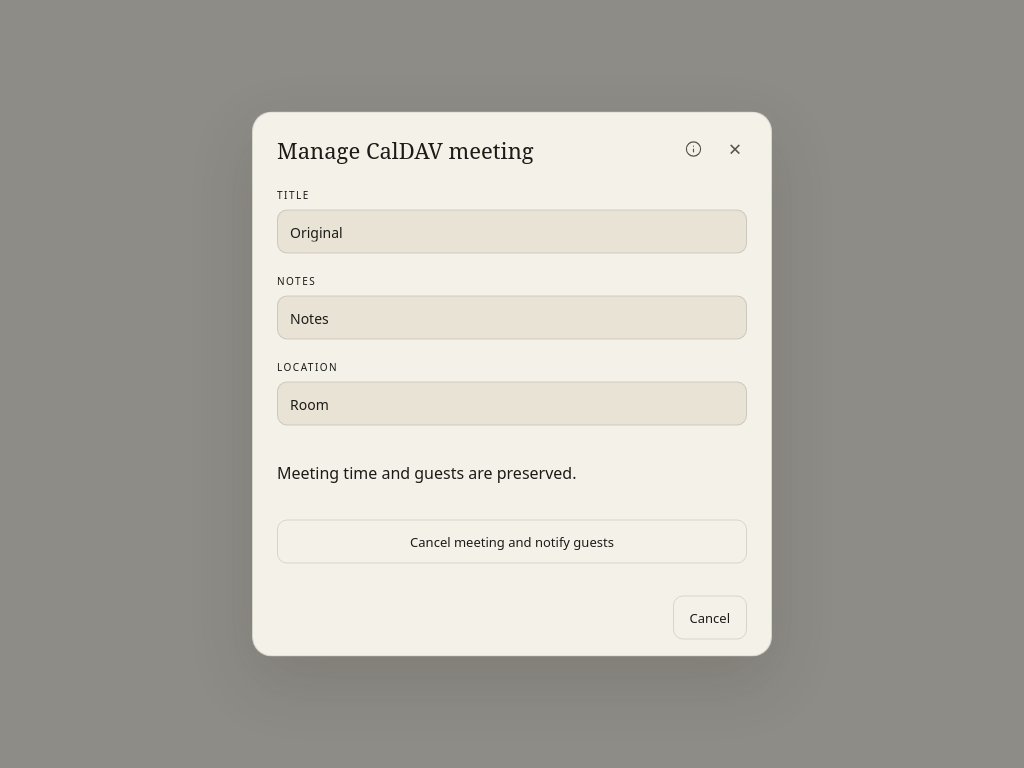
it: retries the exact cancellation-only request after dismissing its failed confirmation
The image size is (1024, 768).
What coordinates should you click on to do the following:
click the button "Cancel meeting and notify guests"
I would click on:
 (512, 542)
Its box is [277,520,747,564].
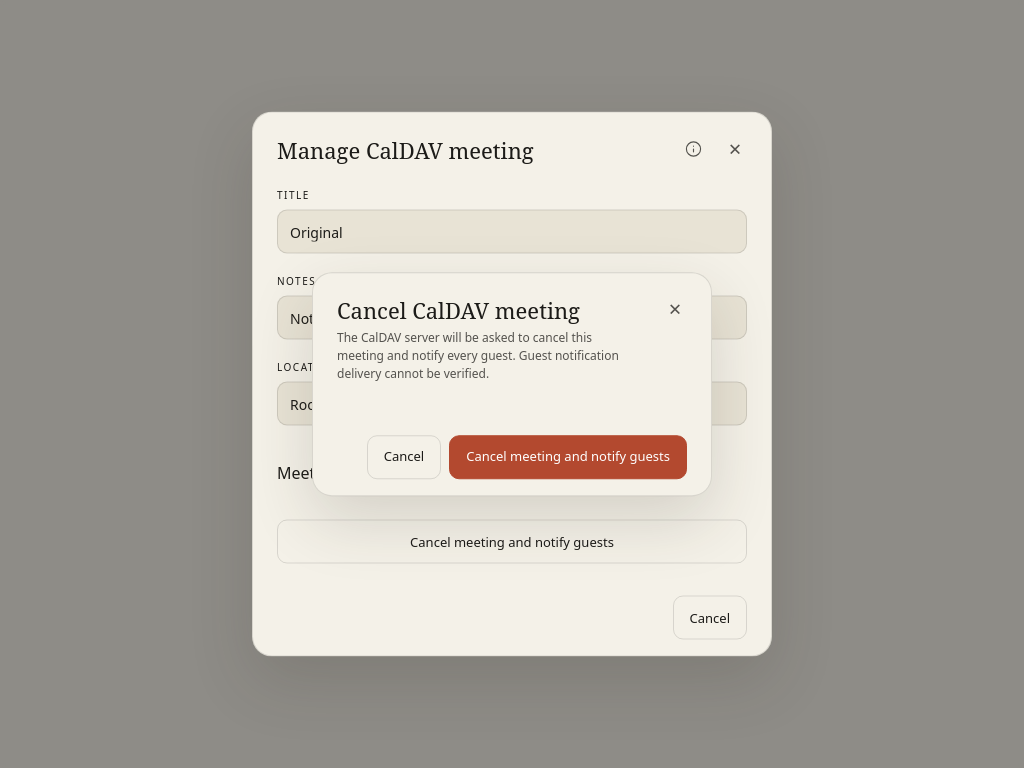
What coordinates should you click on to do the following:
click the button "Cancel meeting and notify guests"
I would click on:
 (568, 457)
Its box is [449,435,687,479].
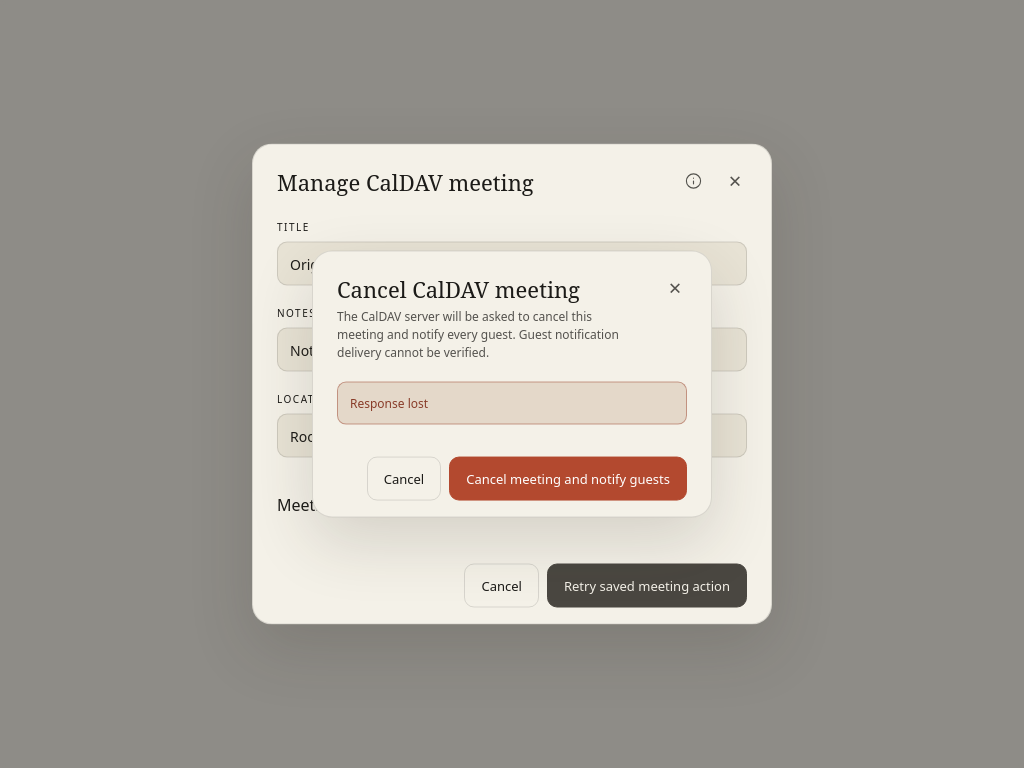
Now the text "Response lost" is shown, box [350,394,428,411]
What coordinates should you click on to do the following:
click the button named "Keep meeting"
I would click on:
 (675, 288)
Its box is [656,269,694,307].
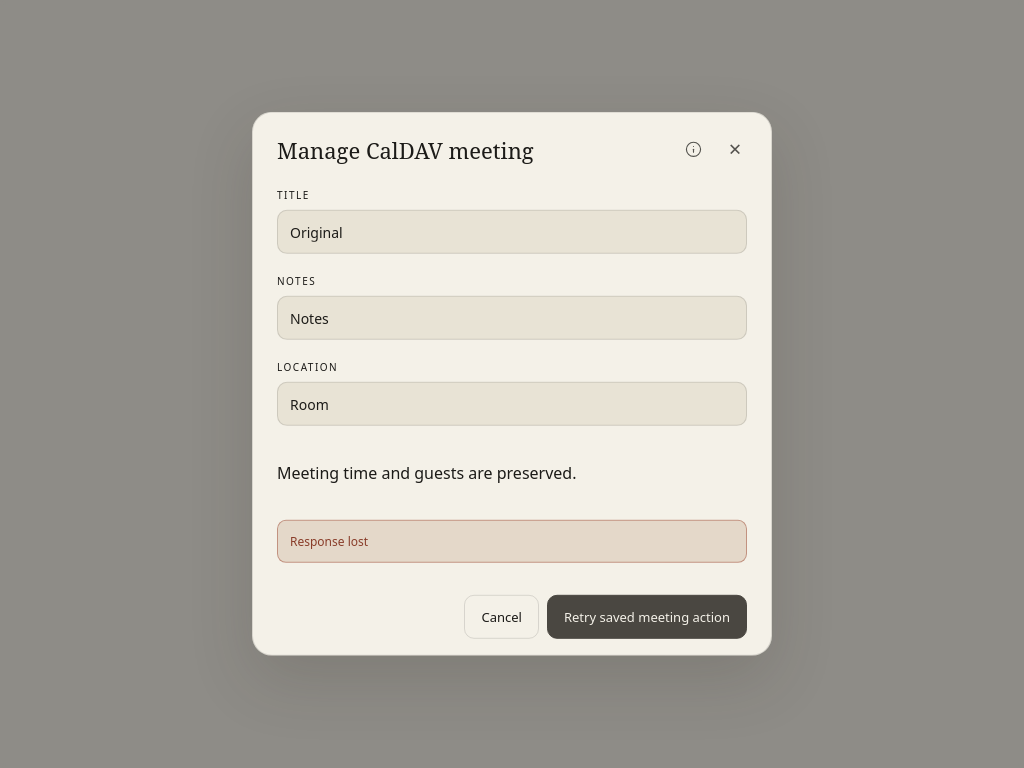
Now the heading "Cancel CalDAV meeting" is gone
What coordinates should you click on to do the following:
click the button "Retry saved meeting action"
I would click on:
 (647, 617)
Its box is [547,595,747,639].
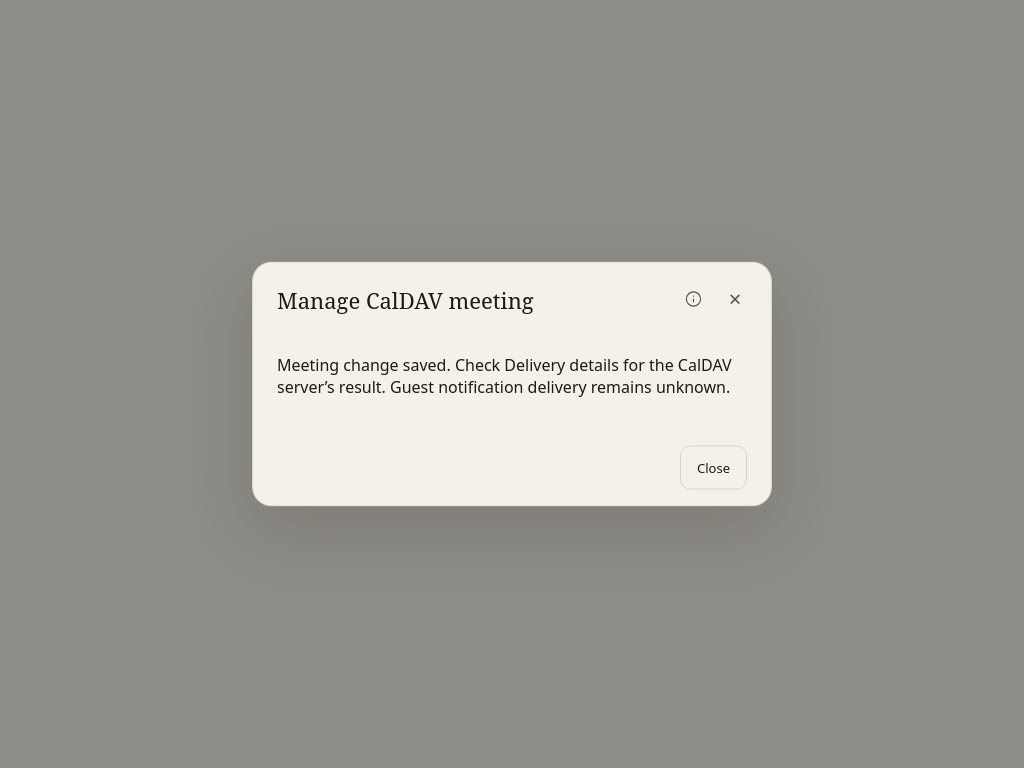
Now the message is shown, box [277,354,747,398]
